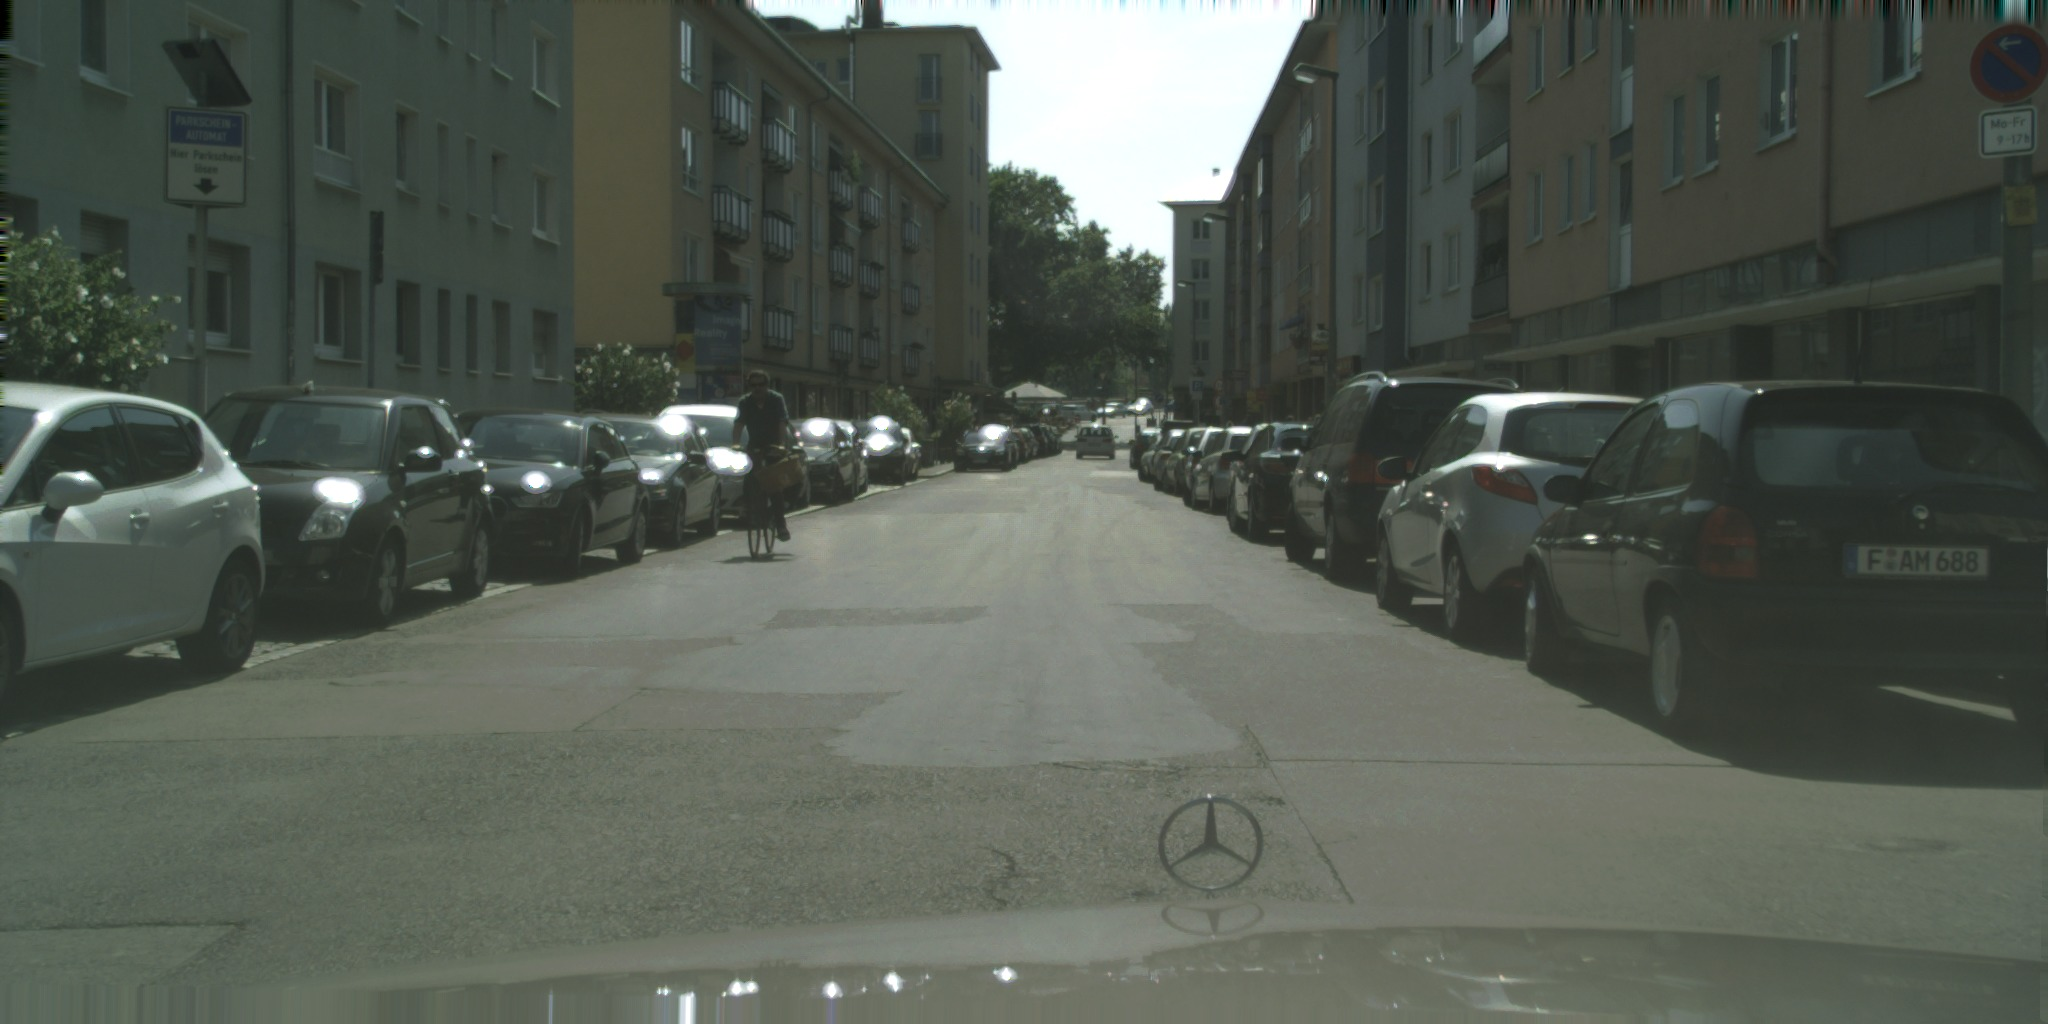bicycle: (734, 444, 803, 557)
car: (1521, 378, 2047, 732), (0, 383, 265, 703), (166, 381, 499, 629), (1374, 392, 1680, 641), (1281, 370, 1532, 576), (407, 404, 650, 576), (573, 409, 722, 547), (636, 404, 770, 526), (1222, 422, 1332, 540), (734, 415, 813, 509), (1191, 426, 1276, 512), (770, 417, 855, 502), (1226, 423, 1290, 523), (838, 415, 910, 485), (1183, 426, 1241, 507), (810, 419, 869, 493), (1149, 419, 1204, 491), (1161, 427, 1215, 495), (952, 424, 1017, 472), (876, 427, 921, 481), (1129, 427, 1168, 470), (1138, 432, 1172, 481), (1074, 424, 1119, 459), (1013, 424, 1062, 455), (995, 428, 1032, 463), (1010, 427, 1039, 458), (1033, 424, 1062, 454), (1057, 404, 1098, 423), (1032, 404, 1070, 419), (1126, 398, 1154, 417), (1094, 402, 1126, 418), (1038, 425, 1053, 454), (1051, 426, 1062, 452), (1165, 398, 1179, 413)
person: (1220, 422, 1235, 435), (1159, 414, 1168, 434), (1284, 415, 1293, 427)
rider: (732, 369, 789, 541)
